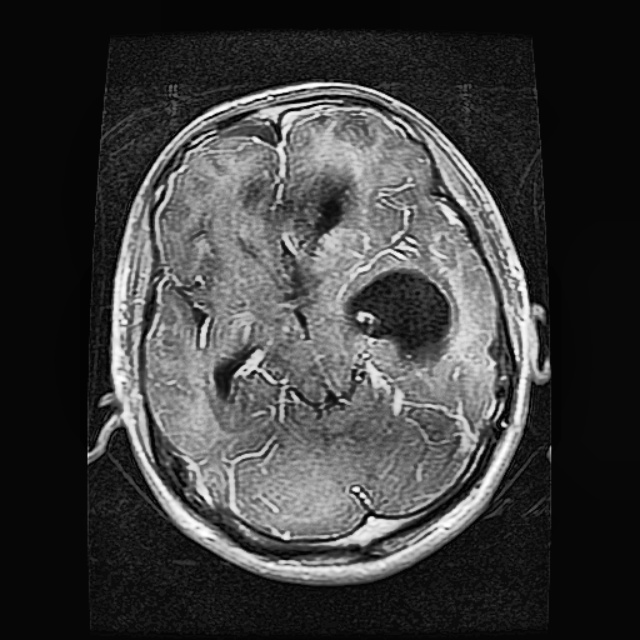Glioma: (345, 265, 458, 358)
